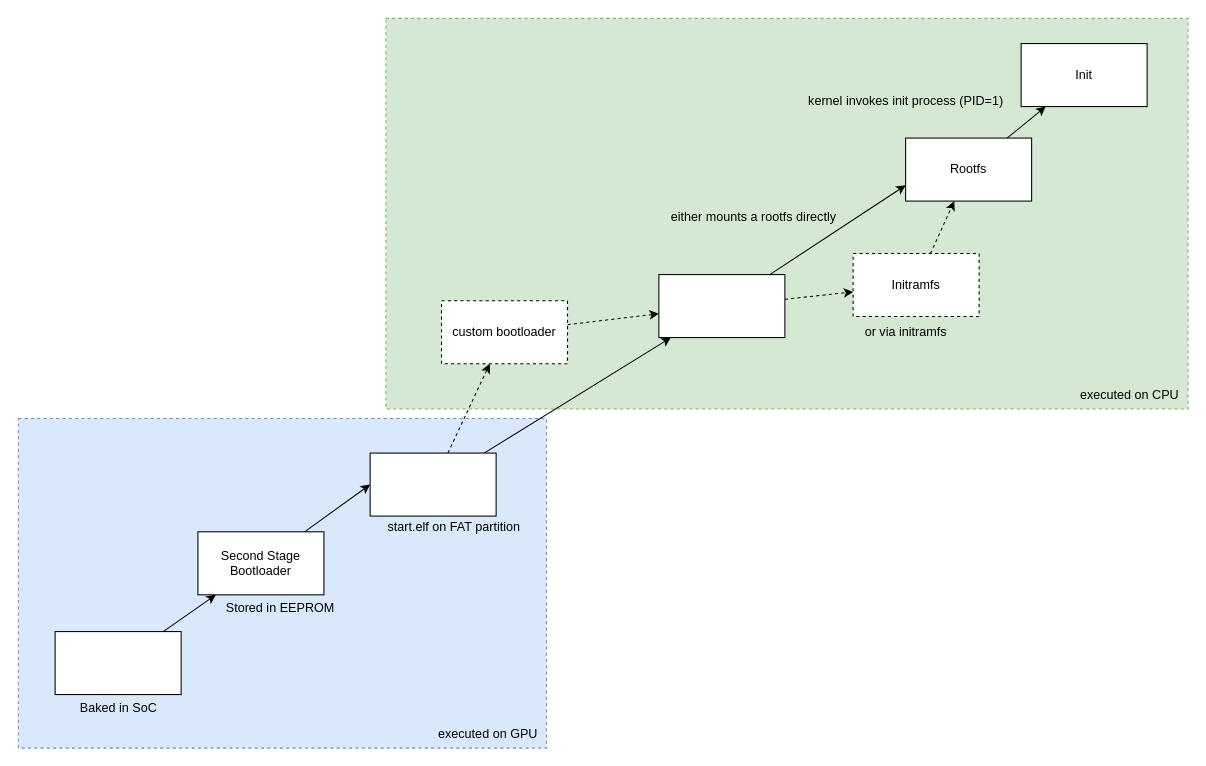
This 1206x766 diagram has some shape labels left out. The shapes that lost their labels are listed below. From the top down, each one's box as (x1, y1, x2, y2) in pixels, then its label:
(658, 274, 785, 338): Linux (Kernel)
(369, 452, 496, 516): GPU Firmware
(54, 631, 181, 695): First Stage Bootloader
